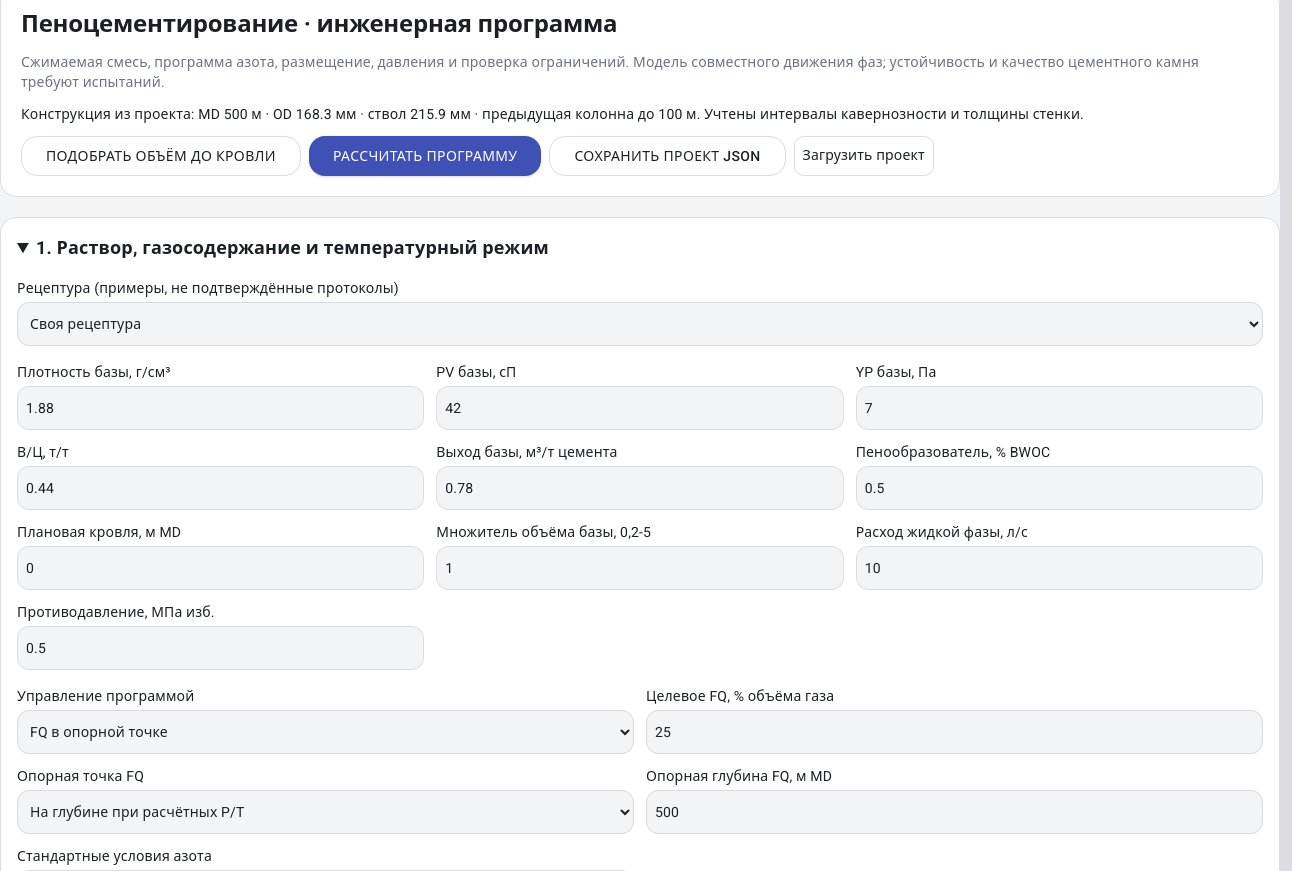
Test: Foam engineering workflow › runs asynchronously, synchronizes views and invalidates reports after editing
Later steps or results of the test are not shown.
Click the button "Рассчитать программу". click: (425, 156)
box: [309,136,542,176]
(page scrolled)
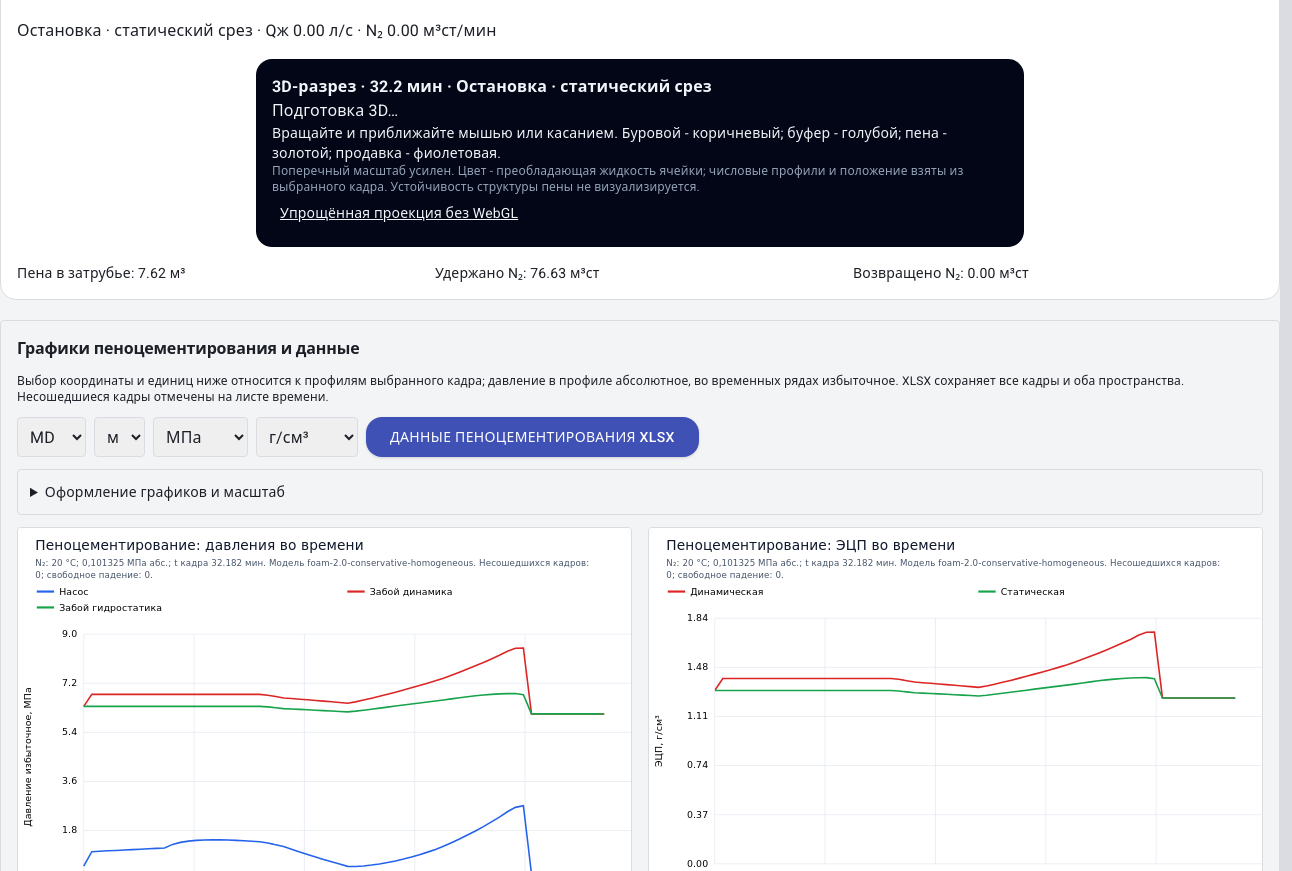
Select "TVD" in the dropdown named "Пена: координата глубины". click: (52, 437)
box: [17,417,86,457]
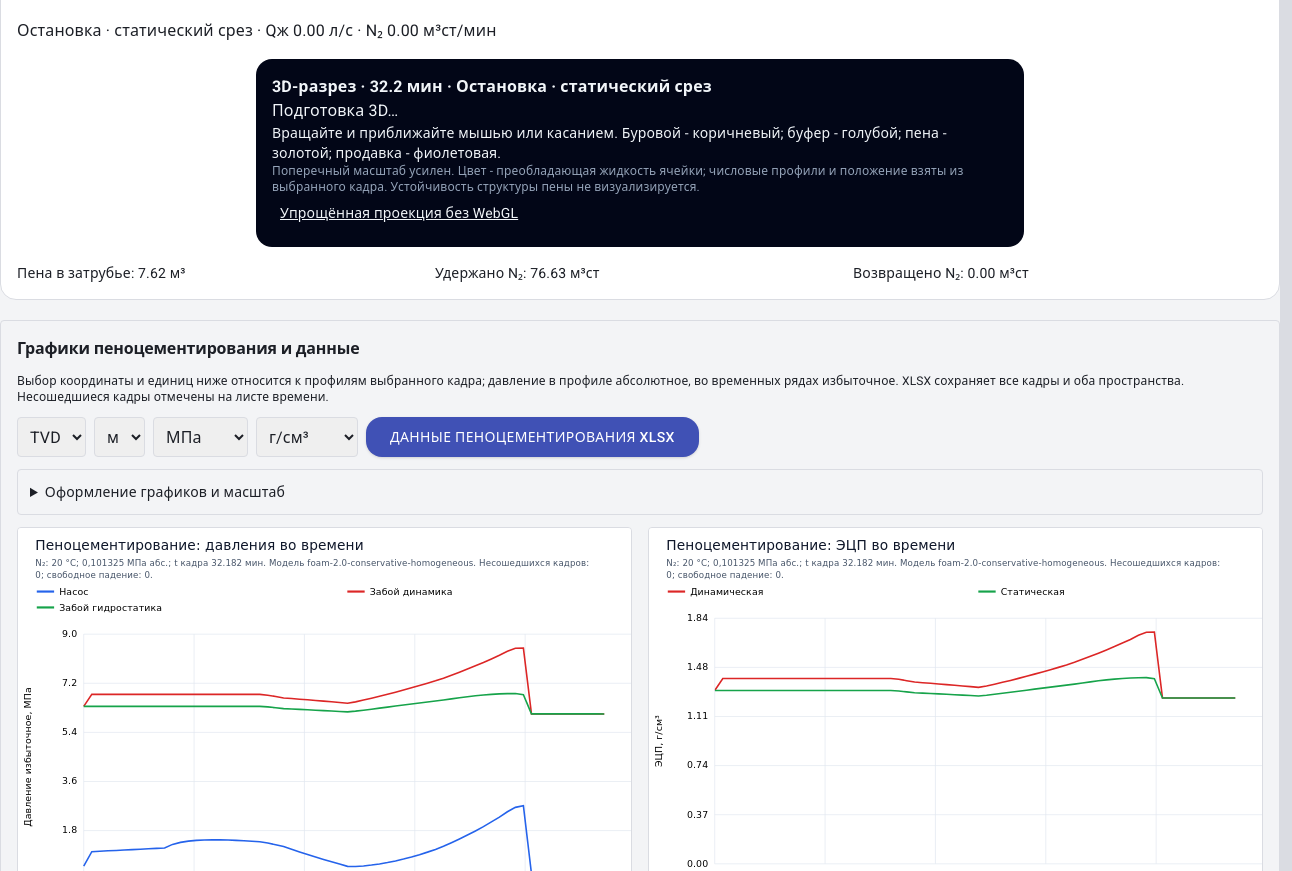
Select "psi" in the dropdown named "Пена: единица давления". click: (200, 437)
box: [153,417,248,457]
(page scrolled)
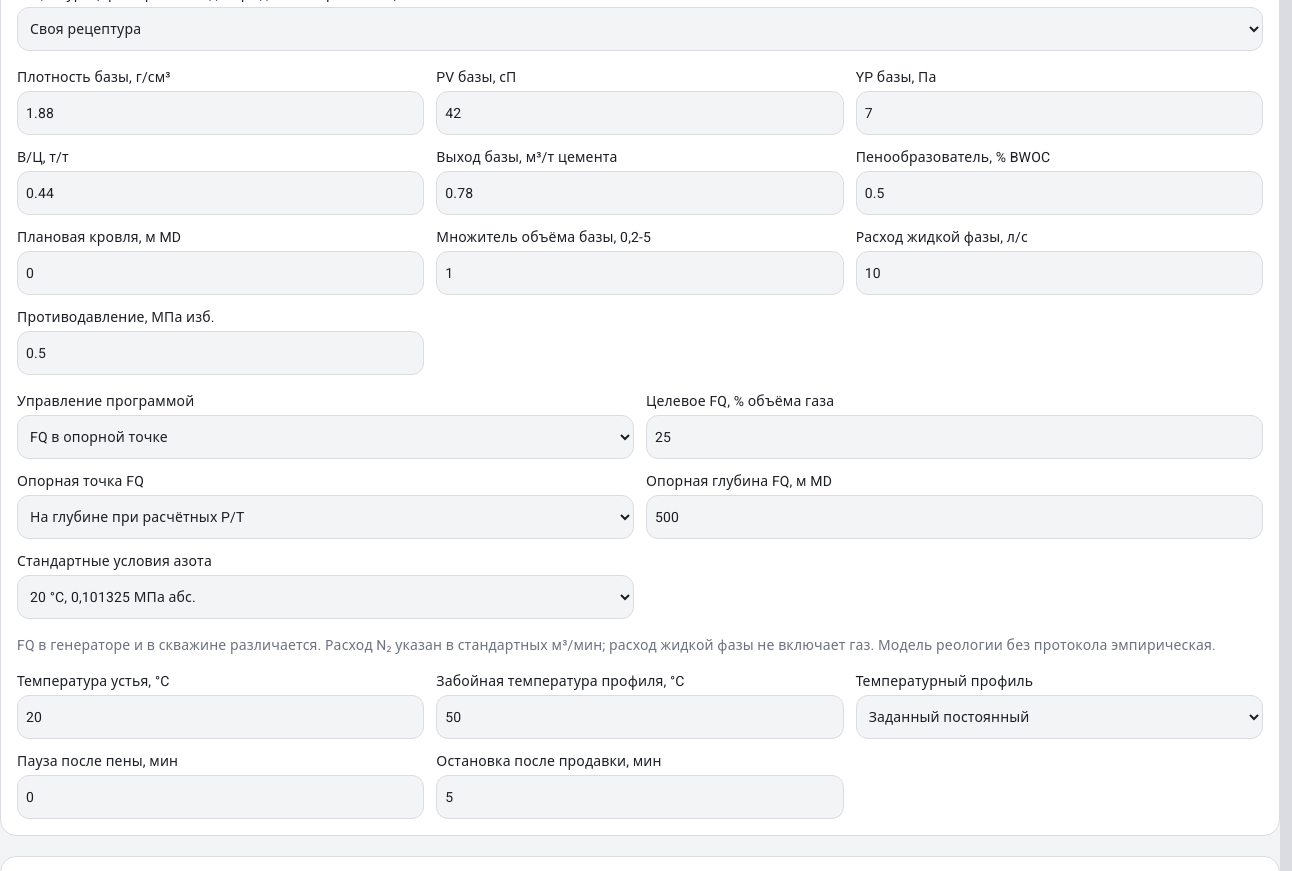
Replace the text in the number field labelled "Целевое FQ, % объёма газа" with "40". click: (954, 437)
box: [646,415,1263,459]
(page scrolled)
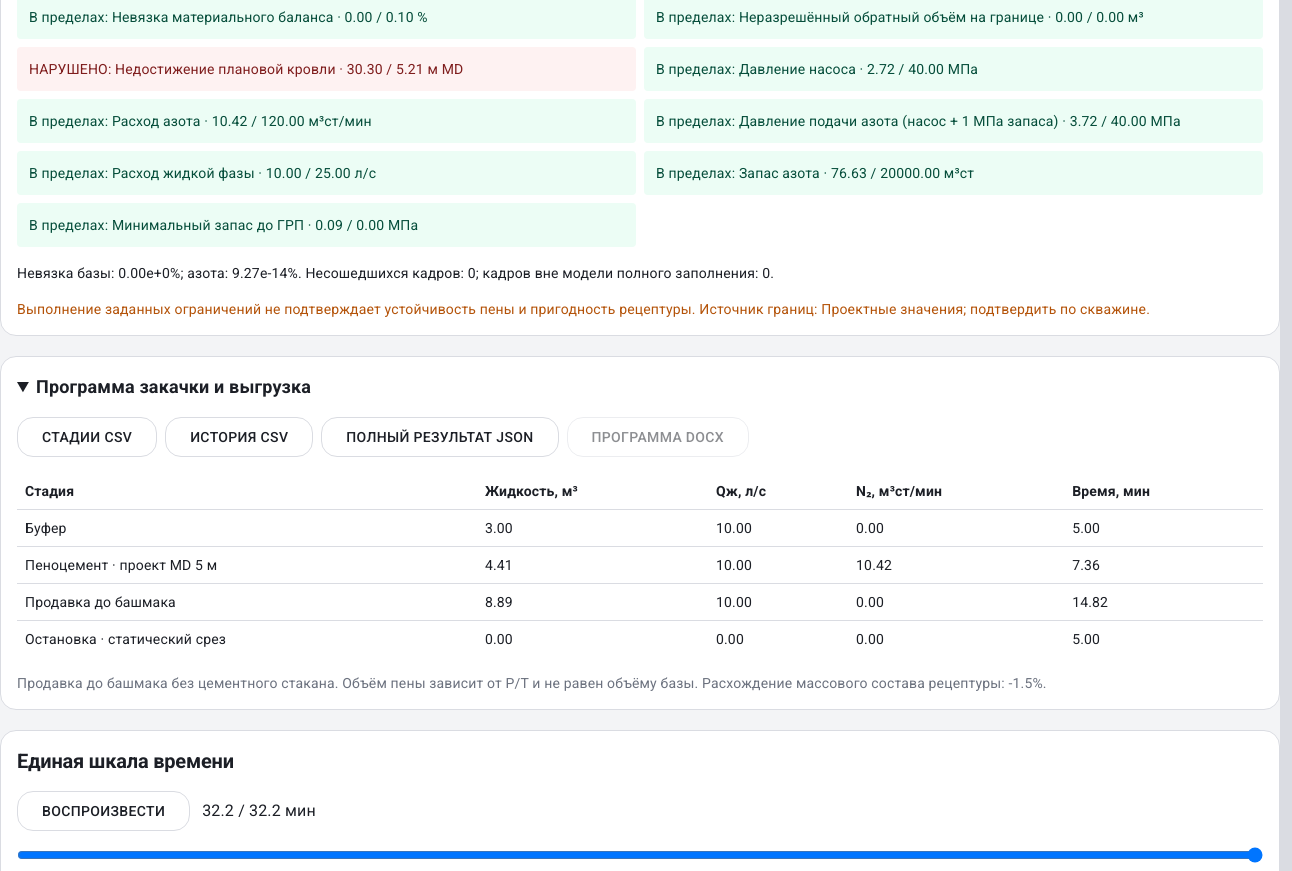
Now the button "Программа DOCX" is disabled, box [566,417,749,457]
